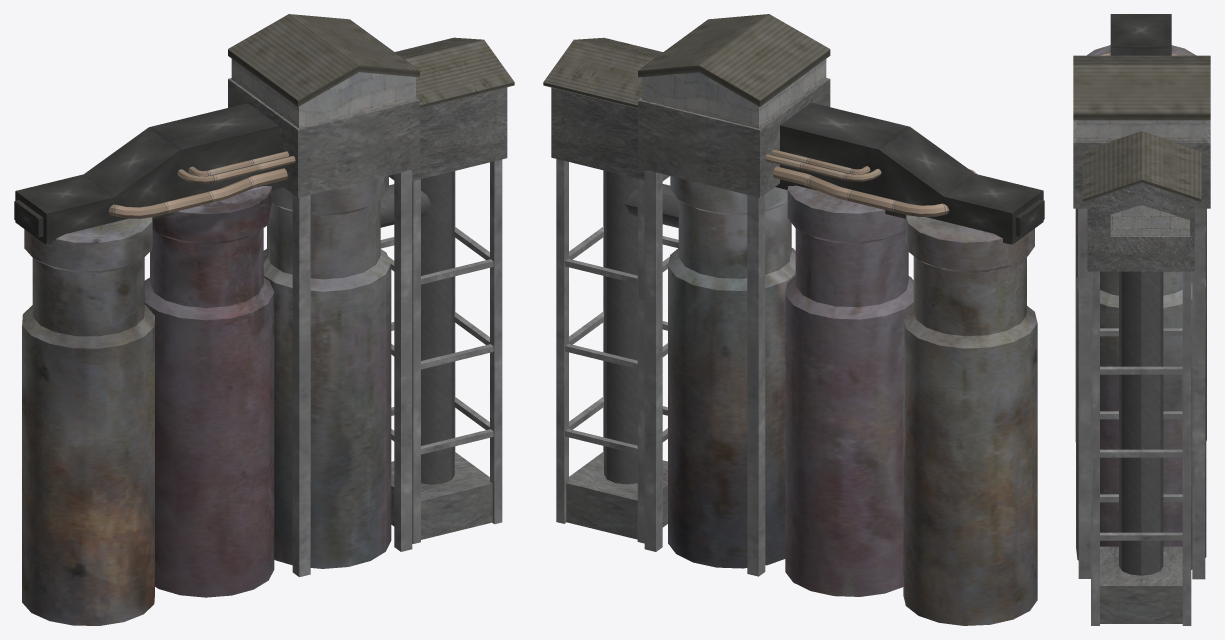
Rendered from industrial_silo.obj.
3 views of the same model, side by side, from view 1: azimuth 30°, elevation 25°; view 2: azimuth 150°, elevation 25°; view 3: azimuth 270°, elevation 25° (orthographic). The views are drawn at different scales.
Visible parts, largest first — view 1: industrial_silo; view 2: industrial_silo; view 3: industrial_silo.
Part boxes in pixels (bbox=[...]): industrial_silo: bbox=[14, 14, 514, 625]; industrial_silo: bbox=[543, 14, 1044, 625]; industrial_silo: bbox=[1073, 14, 1210, 625].
Size of the model in its own units: 16.92 by 17.67 by 4.49.
